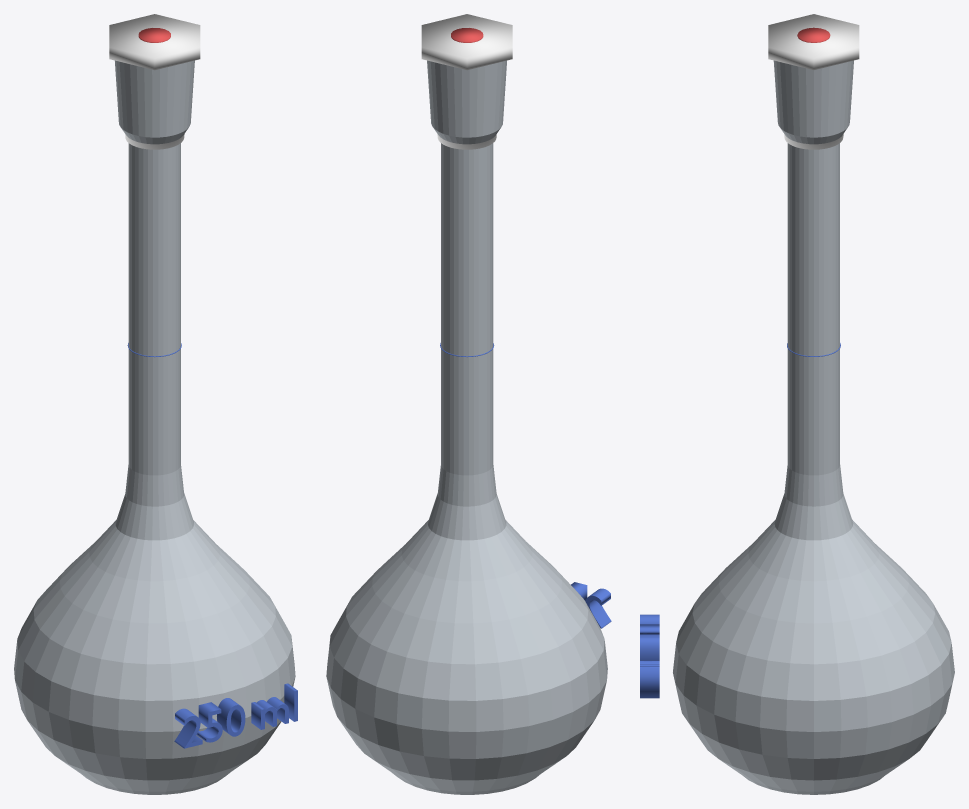
Rendered from matraz aforado.glb.
3 views of the same model, side by side, from view 1: azimuth 30°, elevation 25°; view 2: azimuth 150°, elevation 25°; view 3: azimuth 270°, elevation 25° (orthographic).
Visible parts, largest first — view 1: Cuerpo_Matraz, Tapon_Hexagonal, Texto_250ml; view 2: Cuerpo_Matraz, Tapon_Hexagonal, Texto_250ml; view 3: Cuerpo_Matraz, Tapon_Hexagonal, Texto_250ml.
Part boxes in pixels (x1,y1,x2,y2): Cuerpo_Matraz: [14, 60, 295, 794]; Tapon_Hexagonal: [109, 14, 200, 70]; Texto_250ml: [174, 683, 297, 748]; Cuerpo_Matraz: [326, 60, 607, 794]; Tapon_Hexagonal: [421, 14, 512, 70]; Texto_250ml: [571, 582, 611, 628]; Cuerpo_Matraz: [673, 60, 954, 794]; Tapon_Hexagonal: [768, 14, 859, 69]; Texto_250ml: [640, 614, 659, 698].
Bounding box in the file's own units: 0.86 × 2.45 × 0.96.
